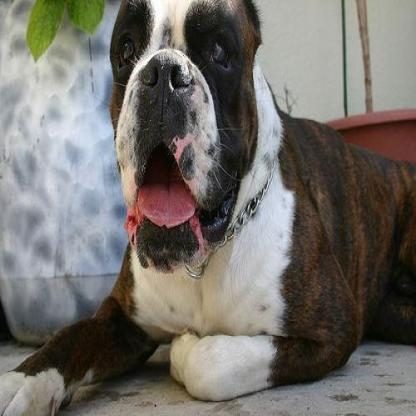boxer: (0, 0, 414, 412)
